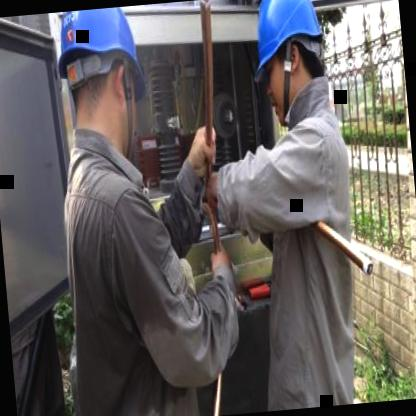helmet: (48, 5, 155, 168), (245, 0, 335, 124)
